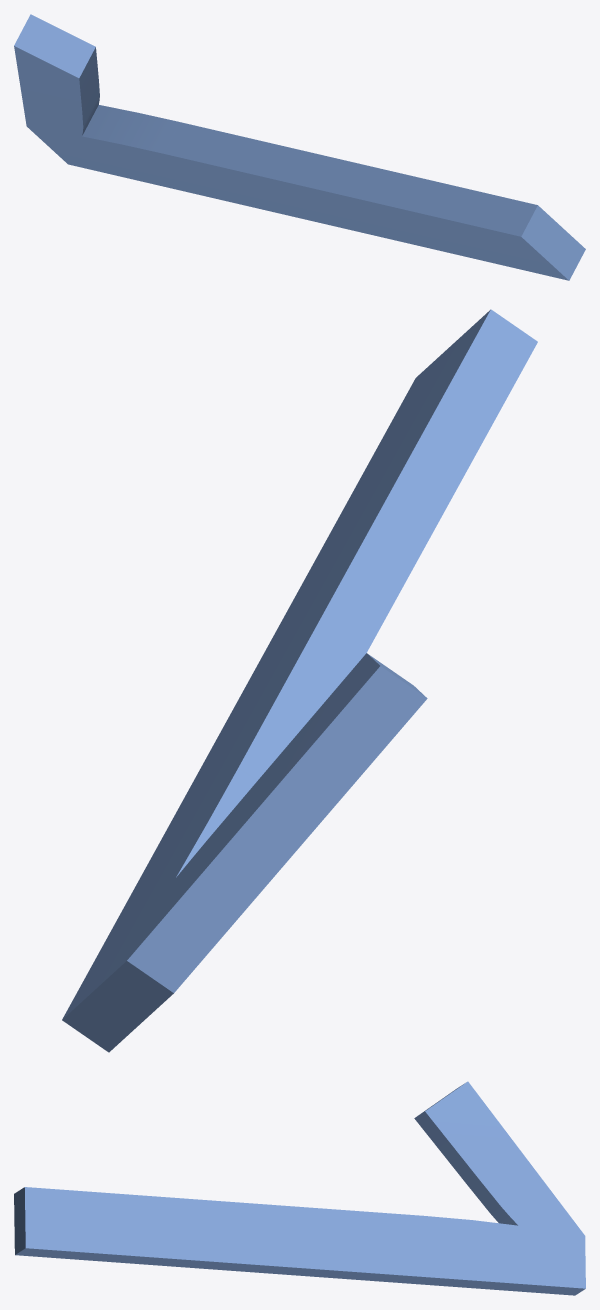
File: New_Number_1.gltf
The picture shows the model from 3 angles, top to bottom: view 1: azimuth 30°, elevation 25°; view 2: azimuth 150°, elevation 25°; view 3: azimuth 270°, elevation 25°; orthographic projection. The views are drawn at different scales.
Parts seen in each view (by area): view 1: Part 577; view 2: Part 577; view 3: Part 577.
Part boxes in pixels (<box>): Part 577: <box>14,14,585,280</box>; Part 577: <box>62,309,537,1052</box>; Part 577: <box>14,1081,585,1295</box>.
Bounding box in the file's own units: 0.00223 × 0.00167 × 0.00498.
